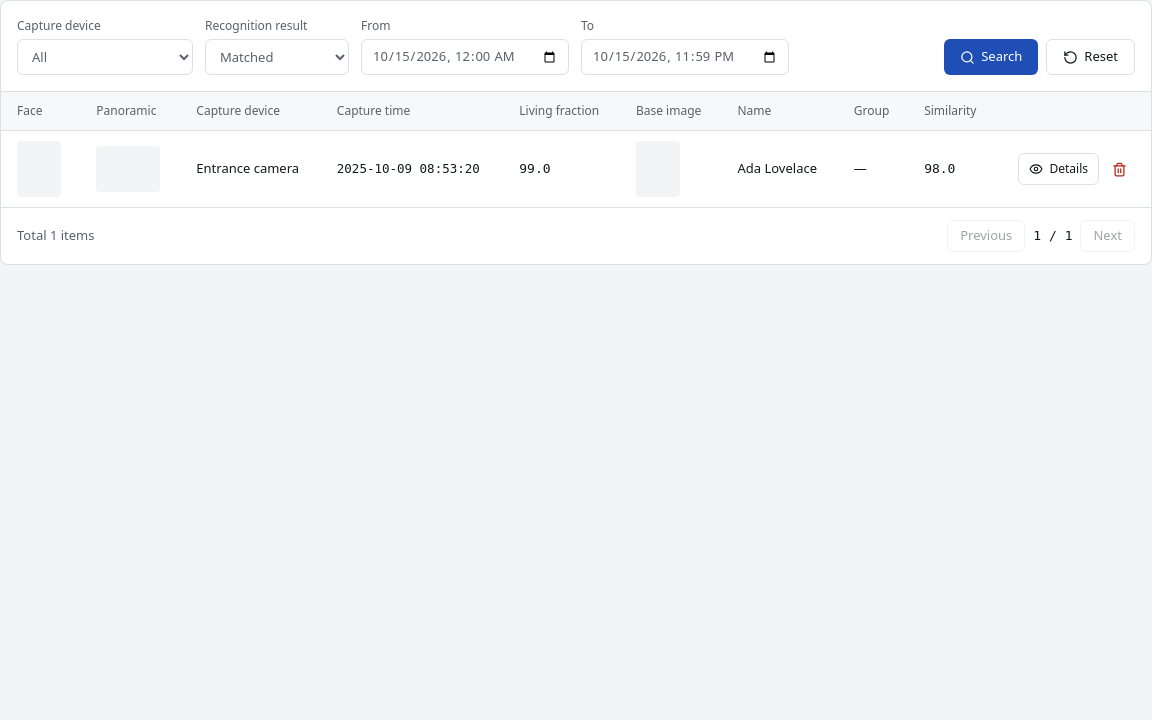
RecognitionTable › confirms deletion, exposes an alert dialog, and shows pending text
The width and height of the screenshot is (1152, 720).
Check: the text "Ada Lovelace" is shown, box [722, 130, 838, 207]
Click the button named "Delete the recognition of Ada Lovelace".
click(1119, 169)  # box [1103, 153, 1135, 185]
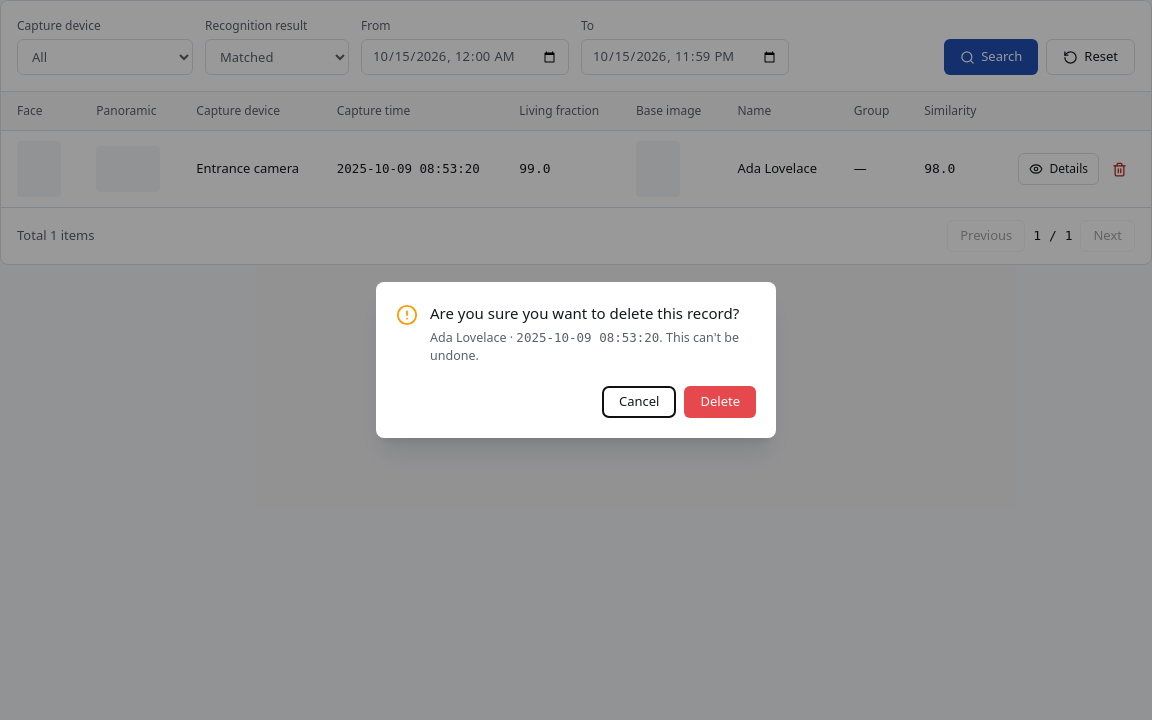
Check: the dialog is shown
Click the button "Delete".
click(720, 402)  # box [684, 386, 756, 418]
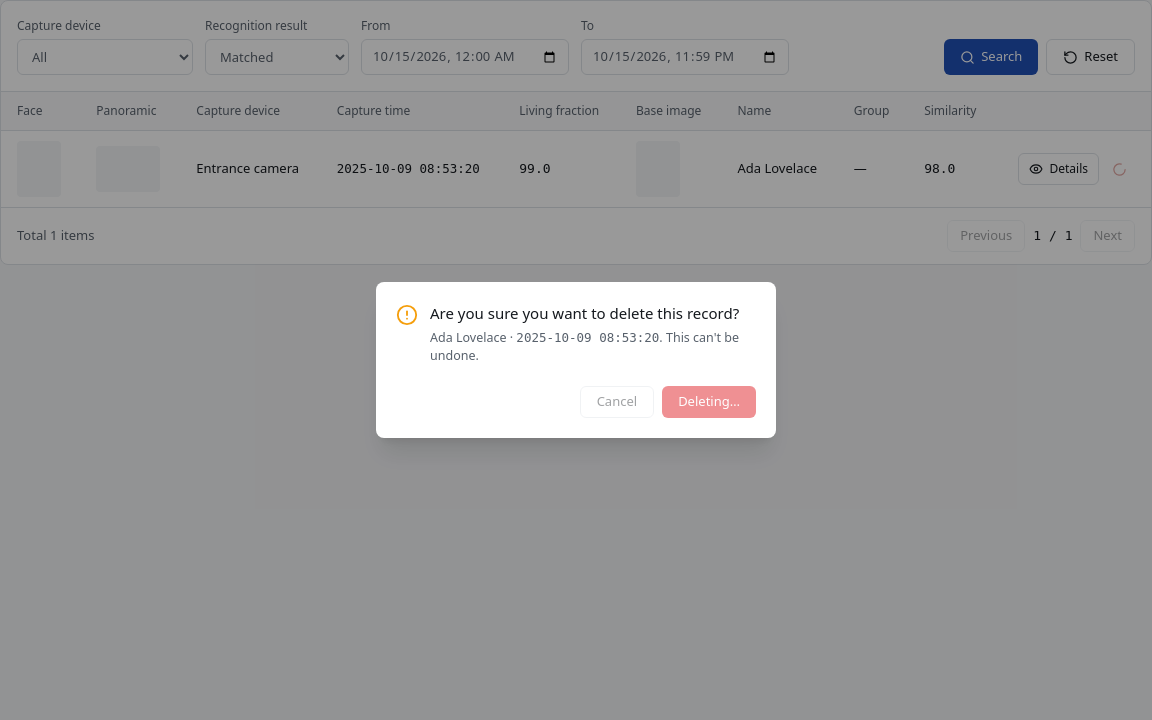
Check: the button "Deleting…" is disabled, box [662, 386, 756, 418]
